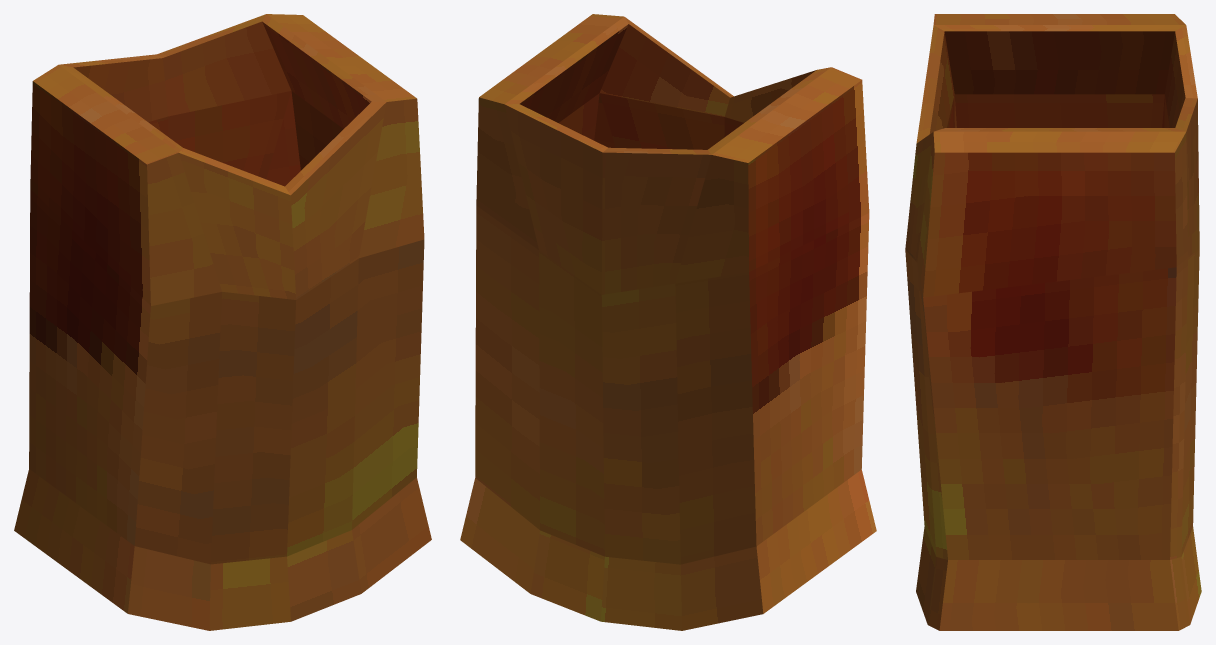
File: CopperChestplate.glb
The picture shows the model from 3 angles, left to right: view 1: azimuth 30°, elevation 25°; view 2: azimuth 150°, elevation 25°; view 3: azimuth 270°, elevation 25°; orthographic projection. The views are drawn at different scales.
Parts seen in each view (by area): view 1: copper chestplate; view 2: copper chestplate; view 3: copper chestplate.
Boxes of the visible parts, x1,y1,x2,y2 form: copper chestplate: (14,14,431,630); copper chestplate: (460,14,876,630); copper chestplate: (905,14,1201,630).
Size of the model in its own units: 0.3774 by 0.5793 by 0.3032.
Materials: 1 (1 with a texture image).
